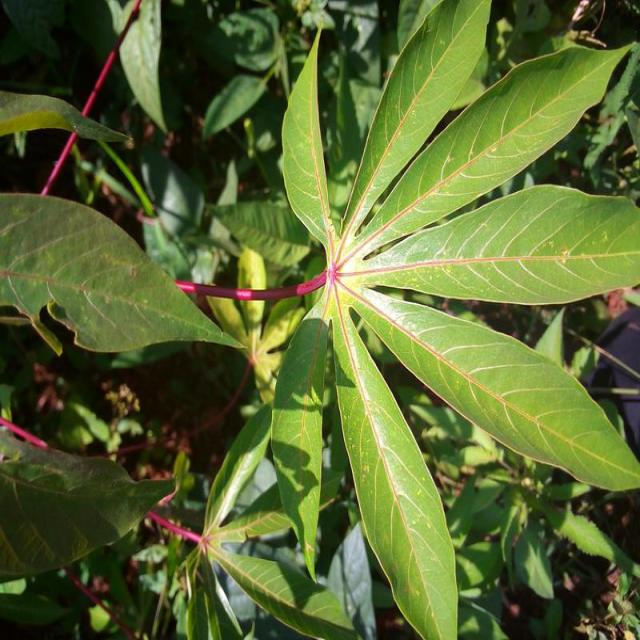cassava leaf: (187, 0, 640, 638), (2, 190, 248, 355)
